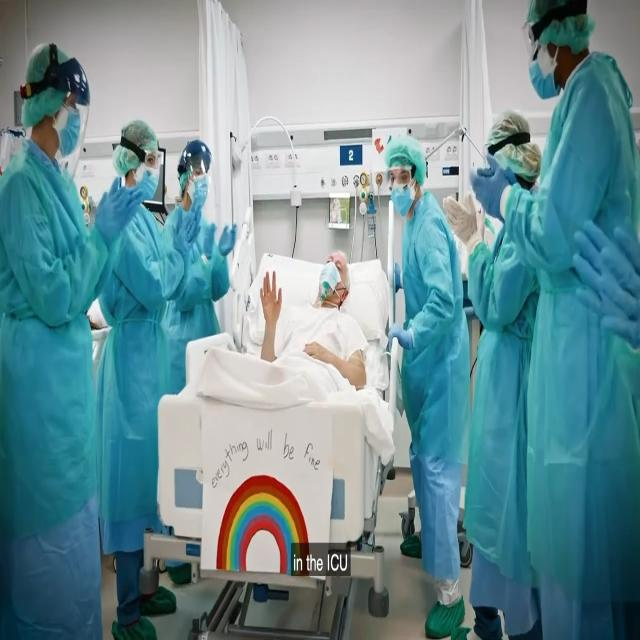Doctor: (517, 0, 640, 640), (0, 37, 112, 639), (100, 93, 166, 640), (472, 93, 536, 636), (164, 122, 226, 327)
Nurse: (376, 130, 472, 634)
Patient: (264, 238, 361, 400)
